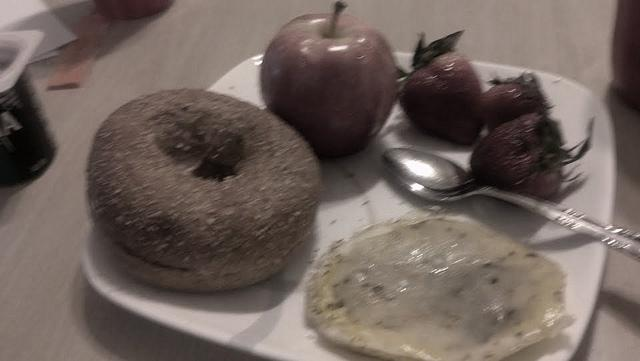apple: (260, 1, 398, 158)
strawberry: (394, 29, 486, 146), (469, 113, 594, 199), (480, 70, 554, 134)
